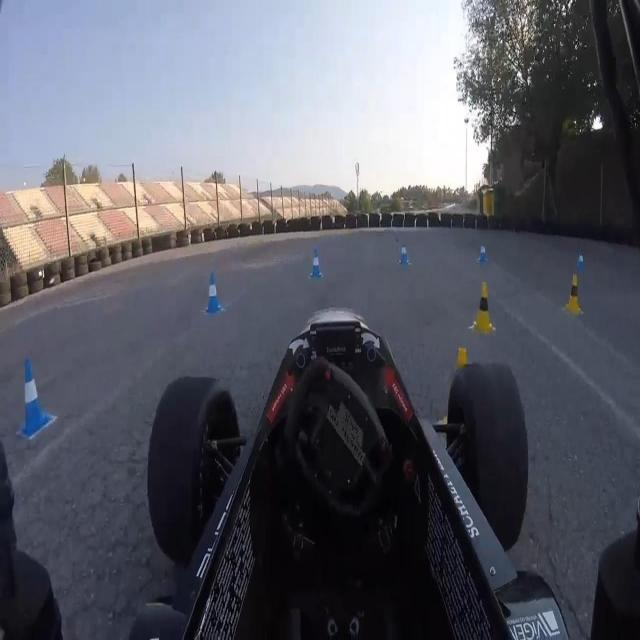blue_cone: (20, 357, 54, 442), (204, 272, 223, 317), (308, 247, 322, 283), (576, 246, 588, 275), (397, 240, 409, 267), (477, 241, 489, 266)
yellow_cone: (439, 345, 482, 440), (470, 282, 494, 336), (565, 273, 582, 317)
